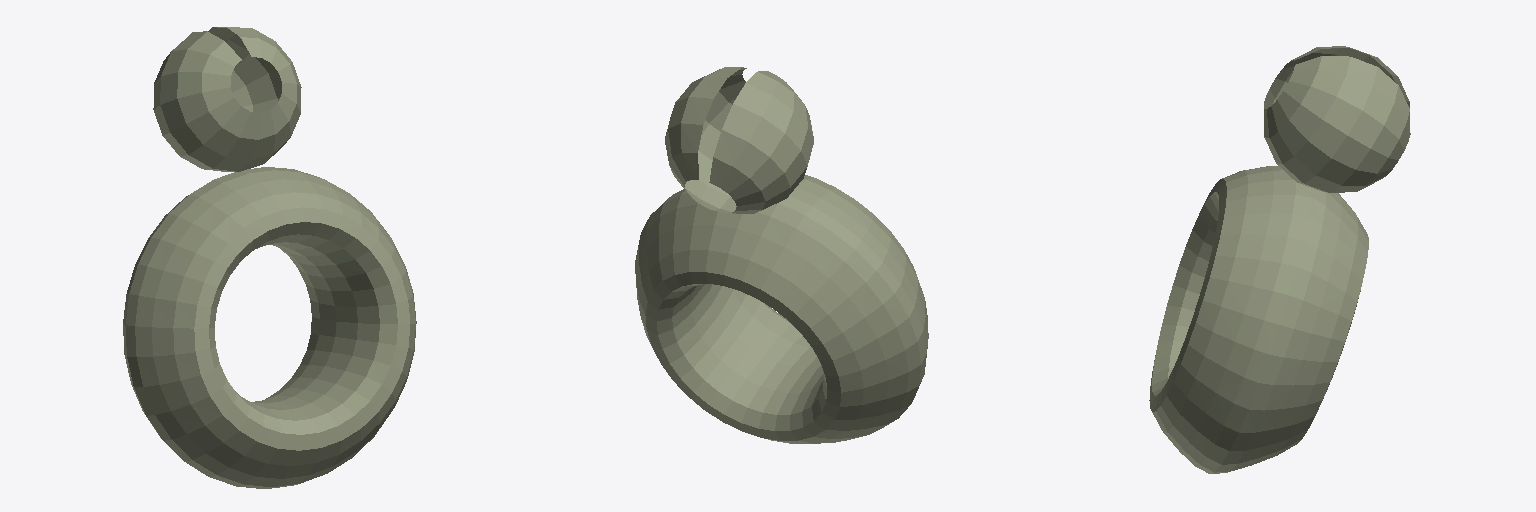
File: Collar_default.obj
3 renders of one model, left to right at view 1: azimuth 30°, elevation 25°; view 2: azimuth 150°, elevation 25°; view 3: azimuth 270°, elevation 25°, orthographic.
Parts seen in each view (by area): view 1: Collar_default; view 2: Collar_default; view 3: Collar_default.
Part boxes in pixels (bbox=[...]): Collar_default: bbox=[123, 27, 416, 488]; Collar_default: bbox=[635, 67, 928, 443]; Collar_default: bbox=[1149, 46, 1410, 473].
Bounding box in the file's own units: 1.19 × 1.65 × 0.9657.